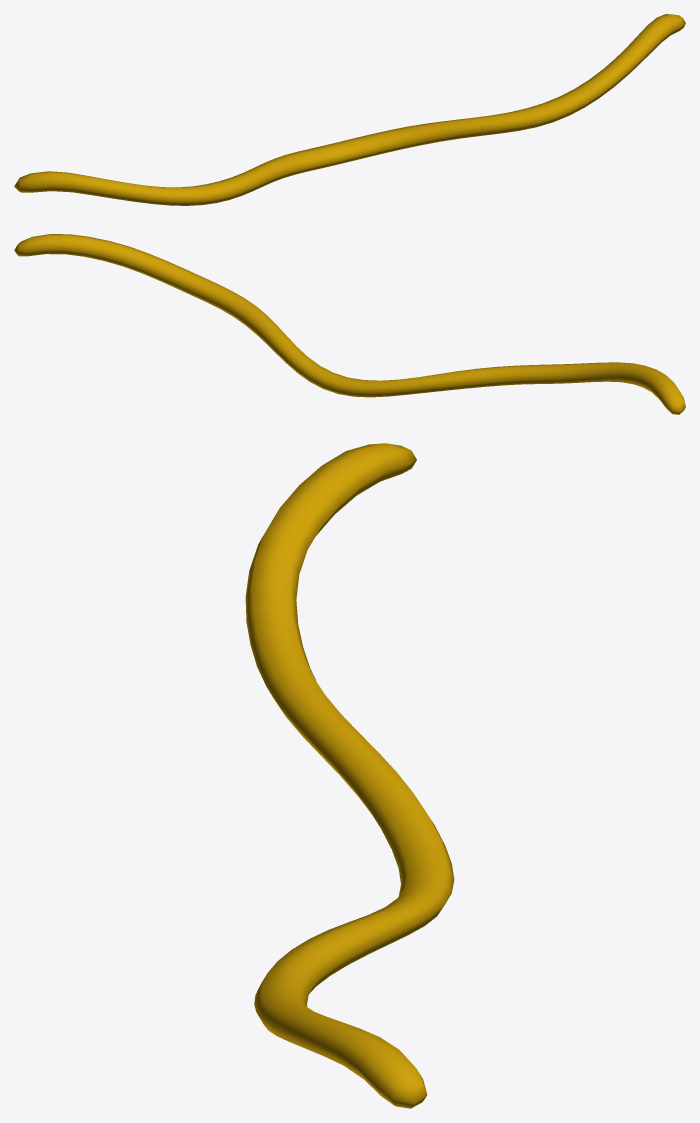
Rendered from ketchuppuddle.obj.
The picture shows the model from 3 angles, top to bottom: view 1: azimuth 30°, elevation 25°; view 2: azimuth 150°, elevation 25°; view 3: azimuth 270°, elevation 25°; orthographic projection. The views are drawn at different scales.
Parts seen in each view (by area): view 1: Mustard; view 2: Mustard; view 3: Mustard.
Boxes of the visible parts, left/top/right/bottom form: Mustard: left=14, top=14, right=685, bottom=205; Mustard: left=14, top=234, right=685, bottom=414; Mustard: left=245, top=443, right=454, bottom=1108.
Size of the model in its own units: 2.41 by 0.2581 by 0.3279.
